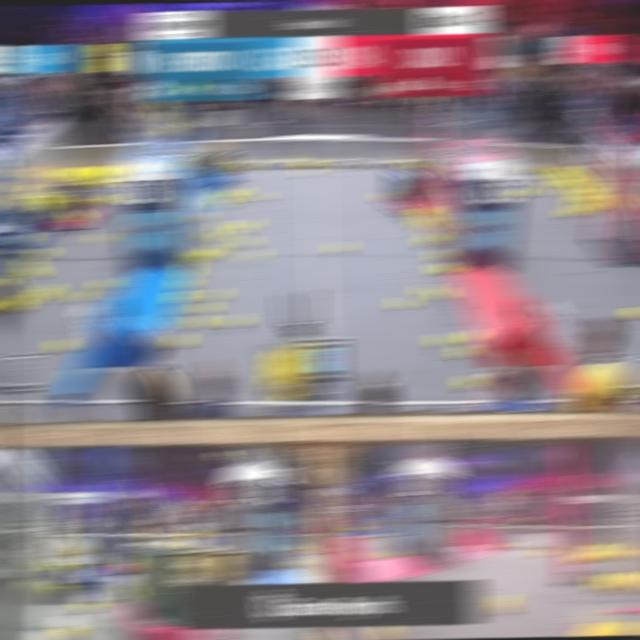ball_airborne: (162, 122, 180, 134), (146, 109, 163, 120), (151, 100, 168, 110), (154, 111, 170, 121)
ball_ground: (56, 616, 82, 640), (492, 592, 514, 612), (78, 593, 99, 612), (460, 374, 480, 390), (434, 334, 454, 349), (54, 339, 74, 354), (169, 335, 188, 349), (393, 296, 412, 310), (227, 314, 246, 328), (188, 314, 207, 328), (462, 331, 481, 344), (98, 278, 116, 291), (170, 290, 188, 303), (19, 293, 38, 305), (434, 288, 452, 300), (206, 288, 224, 300), (434, 264, 451, 276), (198, 302, 215, 314), (418, 284, 436, 295), (332, 241, 350, 252), (33, 248, 51, 258), (70, 290, 88, 300), (244, 250, 262, 260), (442, 264, 460, 274), (236, 238, 254, 248), (215, 232, 232, 242), (203, 226, 220, 236), (93, 235, 111, 244), (40, 284, 56, 294), (562, 207, 578, 216), (102, 194, 120, 202), (340, 162, 356, 171), (24, 270, 42, 278), (242, 163, 258, 172), (512, 188, 529, 196), (358, 552, 374, 560), (193, 214, 209, 222), (520, 188, 536, 195)
goal: (446, 112, 518, 156)
robot_blue: (46, 528, 109, 588), (0, 189, 57, 251), (187, 139, 239, 188), (368, 515, 398, 540)
robot_red: (122, 540, 245, 640), (387, 155, 441, 213), (102, 528, 157, 579), (47, 180, 102, 230)
